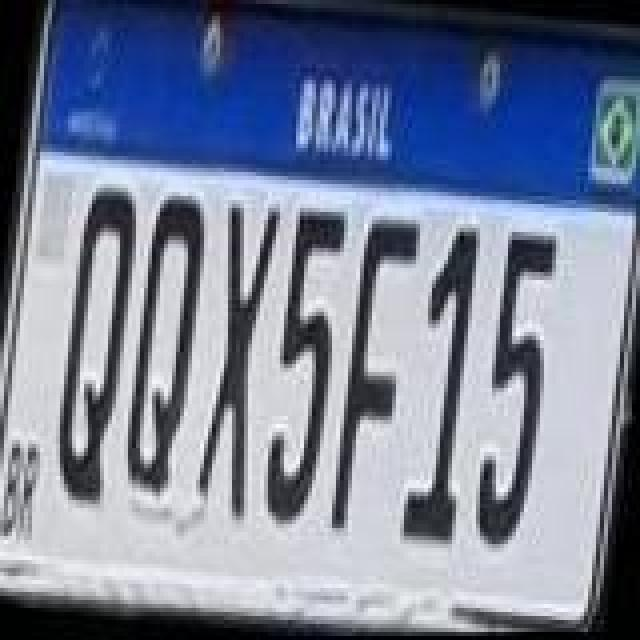1: (396, 220, 492, 552)
5: (256, 202, 352, 534), (468, 224, 564, 556)
F: (328, 212, 424, 540)
Q: (46, 176, 146, 508), (116, 192, 212, 508)
X: (188, 204, 284, 528)
